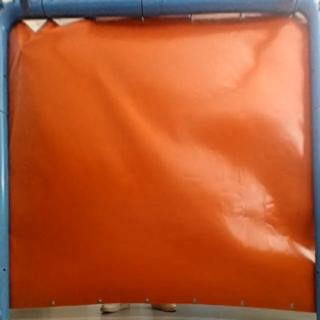Hit-hRxx: (14, 41, 30, 58)
